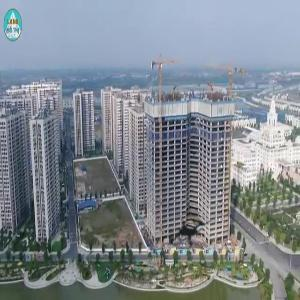drone: (150, 193, 234, 277)
